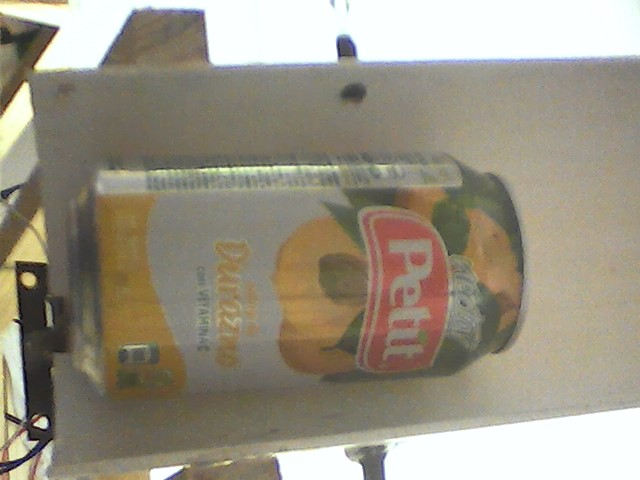lata: (71, 145, 531, 409)
